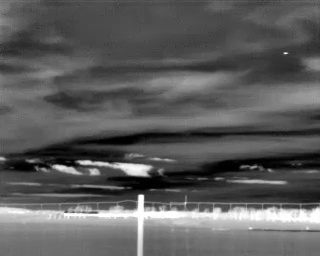AIRPLANE: (282, 49, 290, 57)
